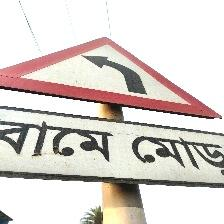Left-Turn: (0, 32, 222, 180)
